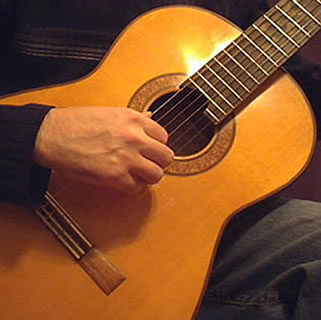guitar: (2, 2, 319, 320)
